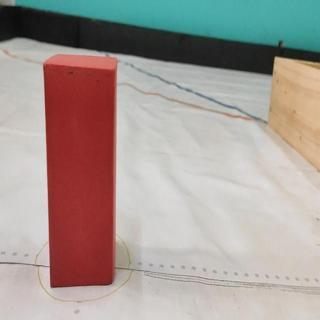redbox: (41, 53, 118, 289)
